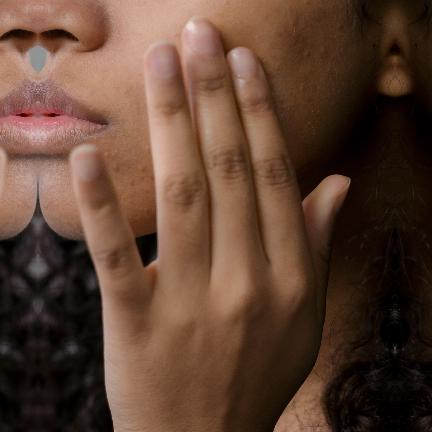Nail: (181, 17, 219, 54), (69, 145, 102, 186), (146, 40, 179, 80), (226, 46, 256, 77), (333, 176, 350, 214), (0, 152, 5, 178)
